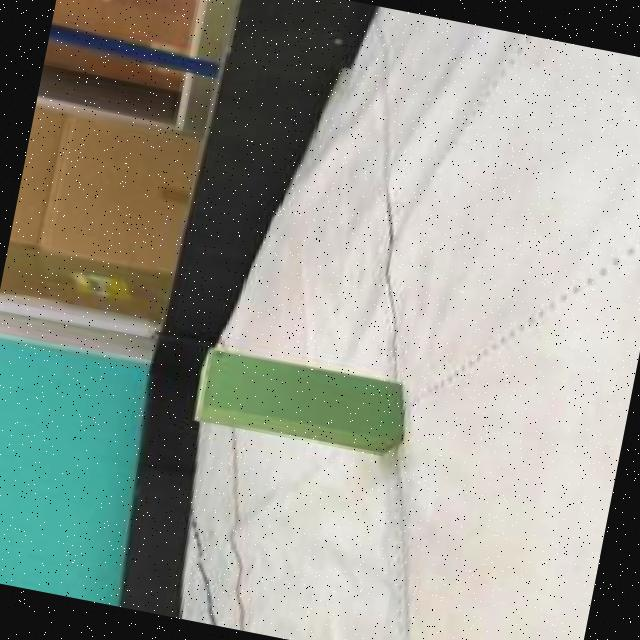greenbox: (186, 341, 418, 462)
